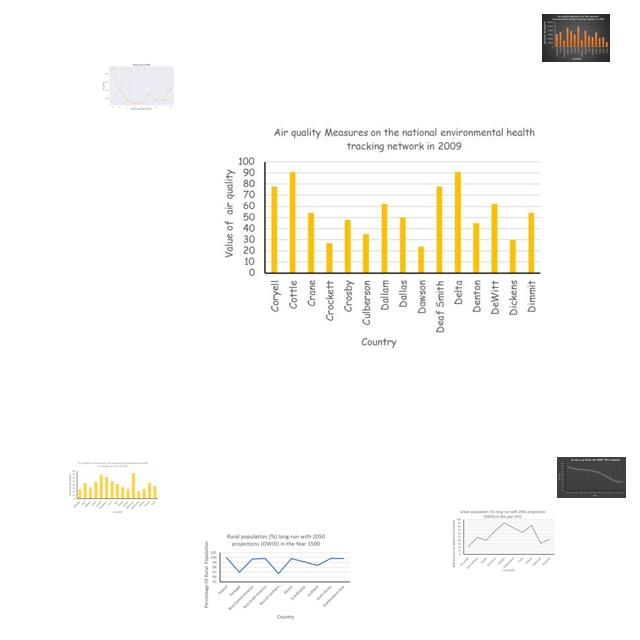Graph: (216, 119, 546, 358), (199, 531, 354, 622), (450, 508, 556, 572), (66, 460, 160, 515), (99, 57, 182, 114), (542, 14, 610, 62), (557, 457, 626, 498)
